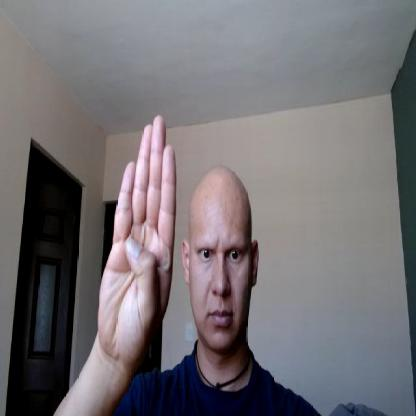B: (98, 112, 178, 358)
